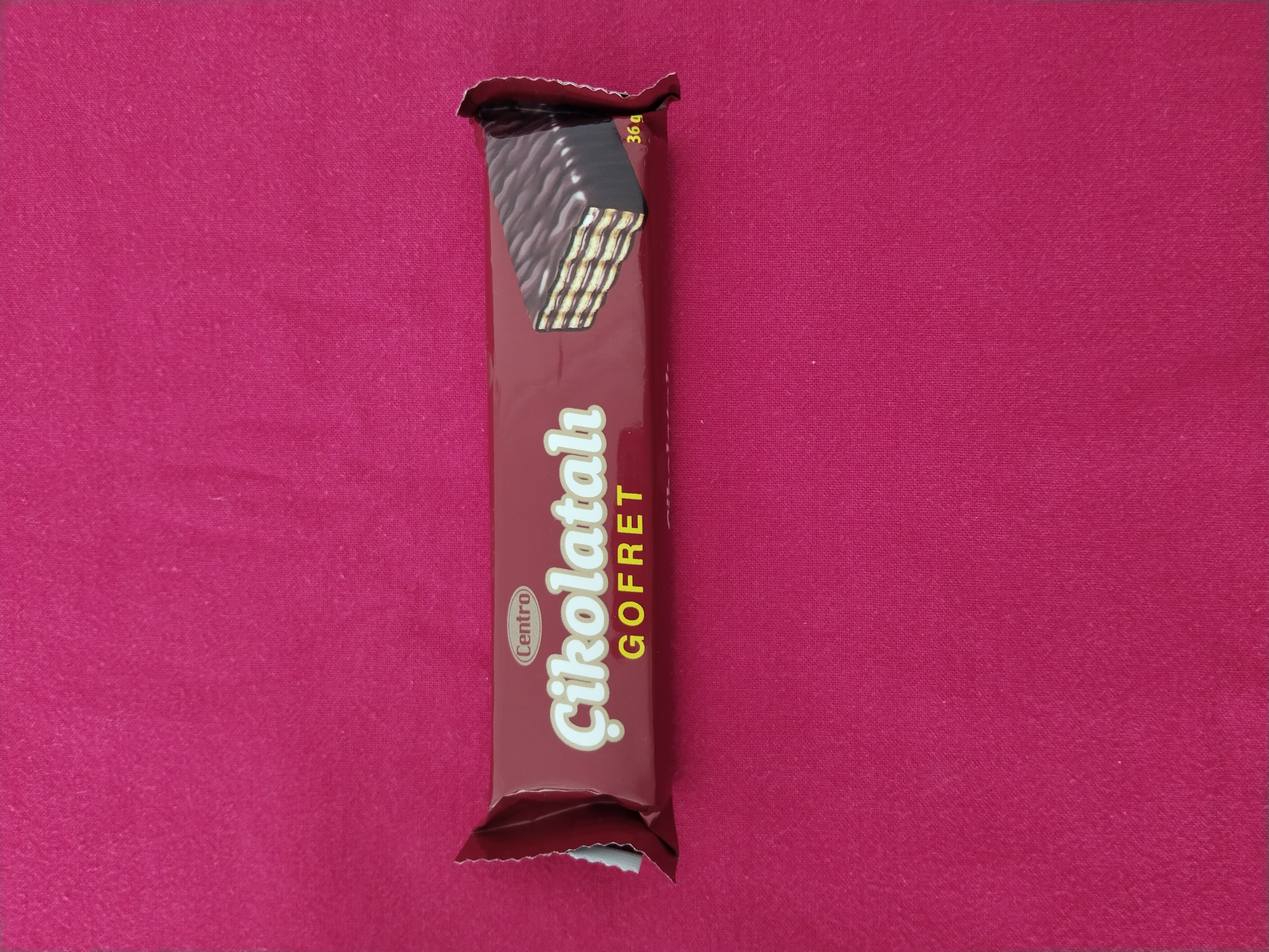centro_gofret: (458, 77, 678, 879)
